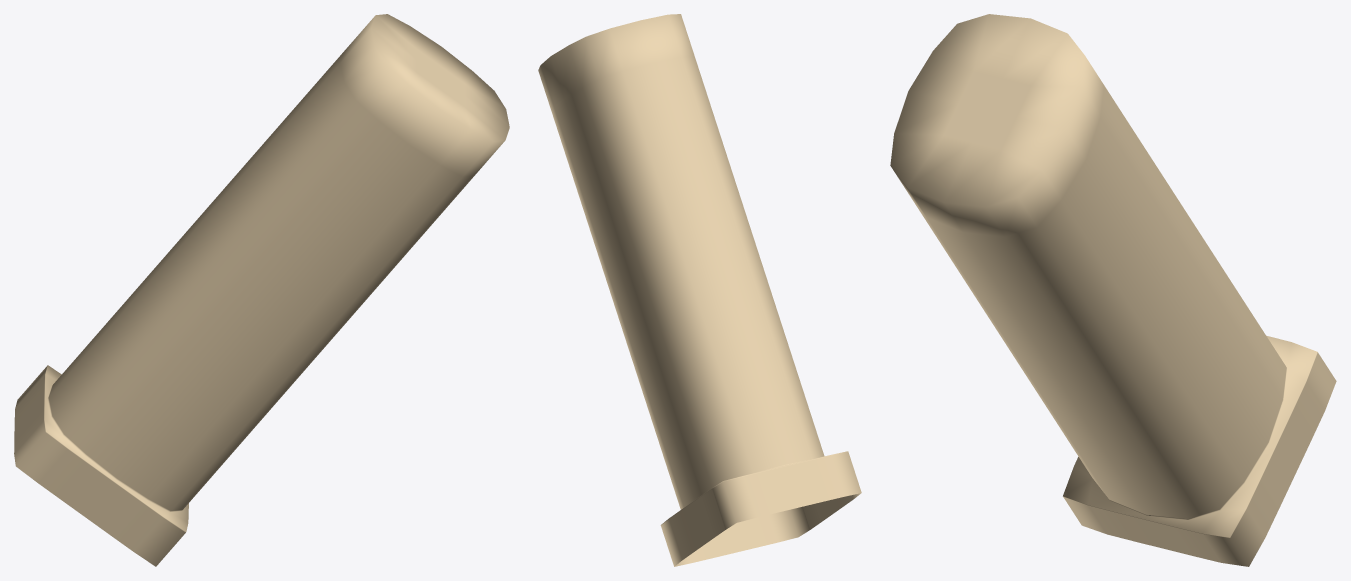
Rendered from rougeal_t2_.fbx.
The picture shows the model from 3 angles, left to right: view 1: azimuth 30°, elevation 25°; view 2: azimuth 150°, elevation 25°; view 3: azimuth 270°, elevation 25°; orthographic projection. The views are drawn at different scales.
Visible parts, largest first — view 1: Stylish_Lipstick_cover_Cube.008; view 2: Stylish_Lipstick_cover_Cube.008; view 3: Stylish_Lipstick_cover_Cube.008.
Part boxes in pixels (bbox=[...]): Stylish_Lipstick_cover_Cube.008: bbox=[14, 14, 509, 566]; Stylish_Lipstick_cover_Cube.008: bbox=[538, 14, 861, 566]; Stylish_Lipstick_cover_Cube.008: bbox=[890, 14, 1336, 566].
Bounding box in the file's own units: 9.32 × 10.84 × 7.
